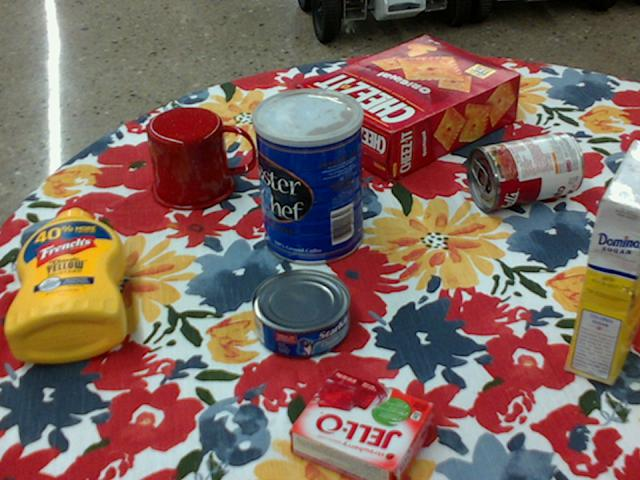cracker_box: (300, 37, 522, 182)
gelatin_box: (291, 371, 439, 479)
master_chef_can: (252, 87, 364, 265)
mug: (147, 106, 255, 210)
mustard_bottle: (6, 208, 127, 362)
sugar_box: (567, 139, 639, 386)
tomato_soup_can: (467, 130, 585, 211)
tuna_fish_can: (251, 269, 350, 359)
